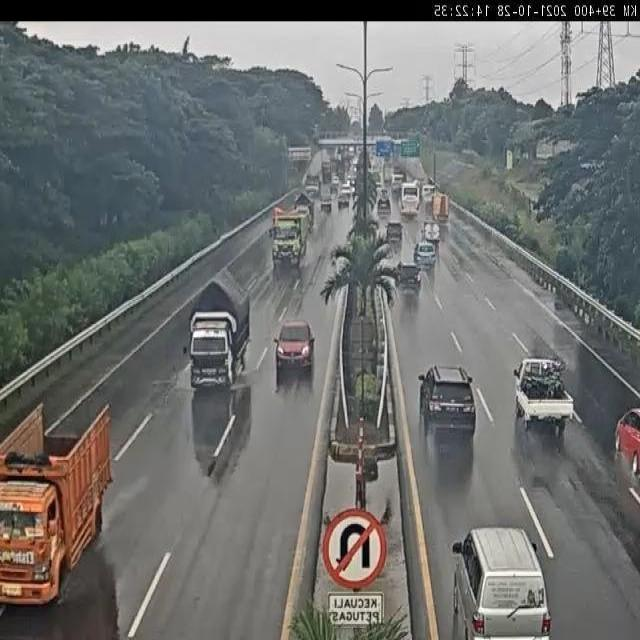Bus: (400, 181, 421, 218)
Car: (418, 364, 478, 443), (273, 320, 315, 379), (396, 262, 423, 300), (413, 240, 438, 274), (386, 221, 402, 246), (320, 194, 332, 213), (338, 195, 350, 208), (331, 174, 340, 190)
Truck: (1, 400, 113, 610), (185, 274, 251, 390), (514, 357, 574, 435), (270, 205, 310, 274), (422, 221, 442, 257), (293, 191, 314, 224), (432, 195, 449, 222), (305, 175, 320, 199), (377, 197, 391, 218), (422, 182, 435, 204), (392, 172, 405, 192), (321, 161, 332, 183)
Van: (451, 526, 551, 637)
